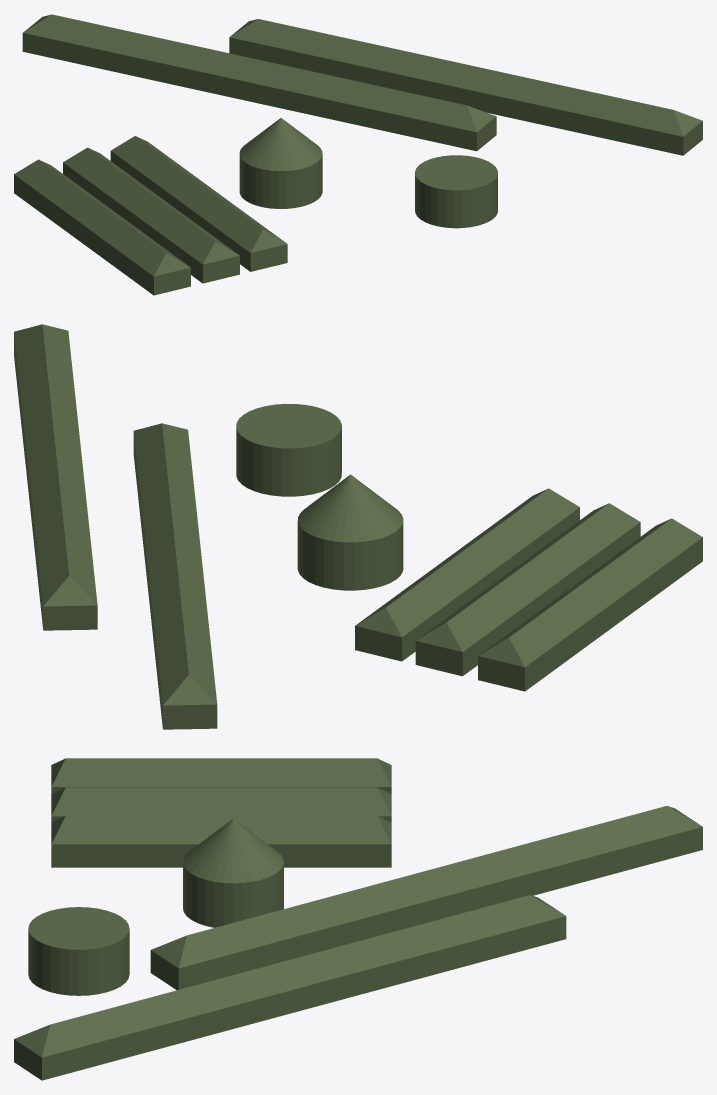
Rendered from Factory.fbx.
3 renders of one model, top to bottom at view 1: azimuth 30°, elevation 25°; view 2: azimuth 150°, elevation 25°; view 3: azimuth 270°, elevation 25°, orthographic. The views are drawn at different scales.
Visible parts, largest first — view 1: Building; view 2: Building; view 3: Building.
Part boxes in pixels (left/top/right/bottom): Building: left=14, top=14, right=702, bottom=295; Building: left=14, top=324, right=702, bottom=729; Building: left=14, top=758, right=702, bottom=1080.
Bounding box in the file's own units: 15342 × 1985 × 13803.
